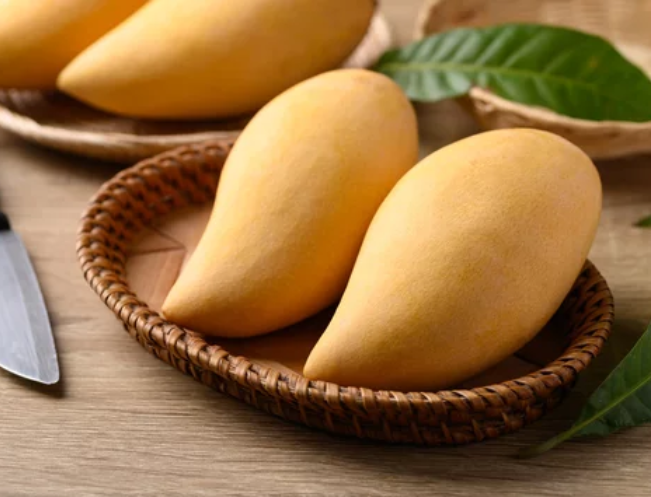mango: (304, 127, 601, 385), (168, 69, 423, 329)
